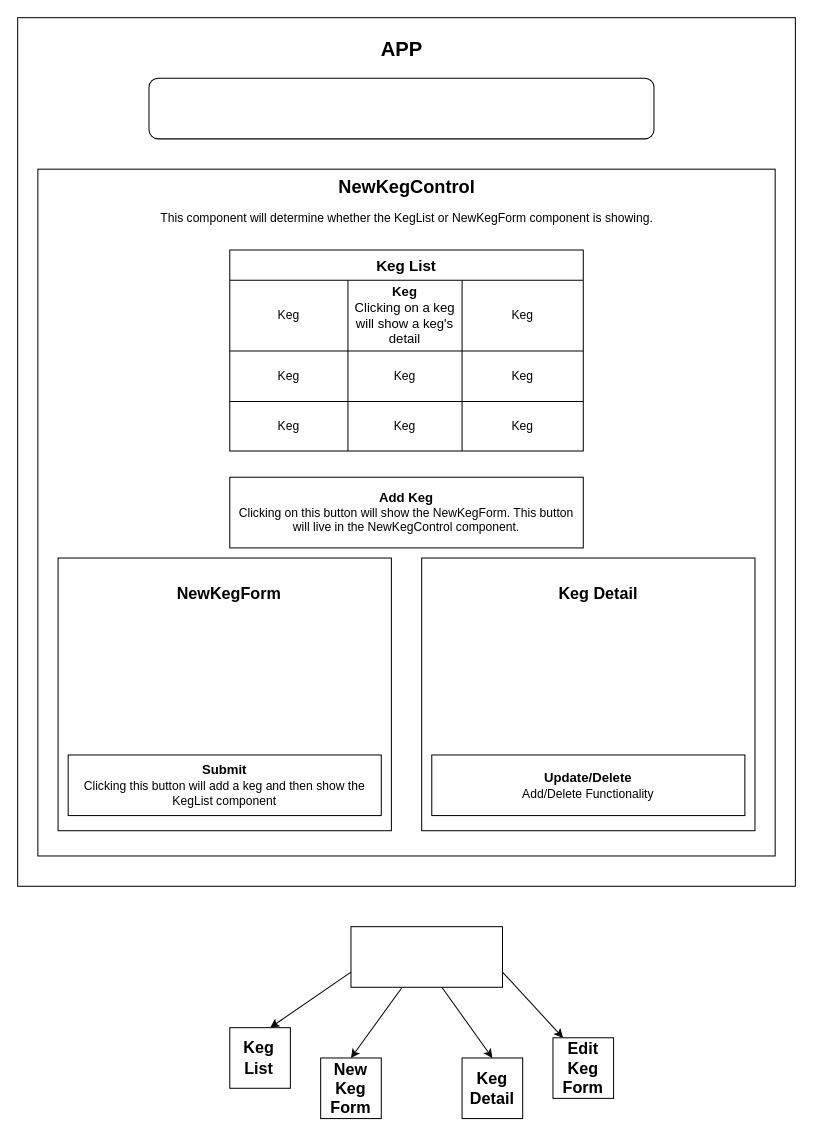
Some shapes in this 813 by 1136 pixel diagram are drawn without their labels. Each missing label, with the centre of its shape:
Header: [401,108]
New Keg Control: [426,956]
